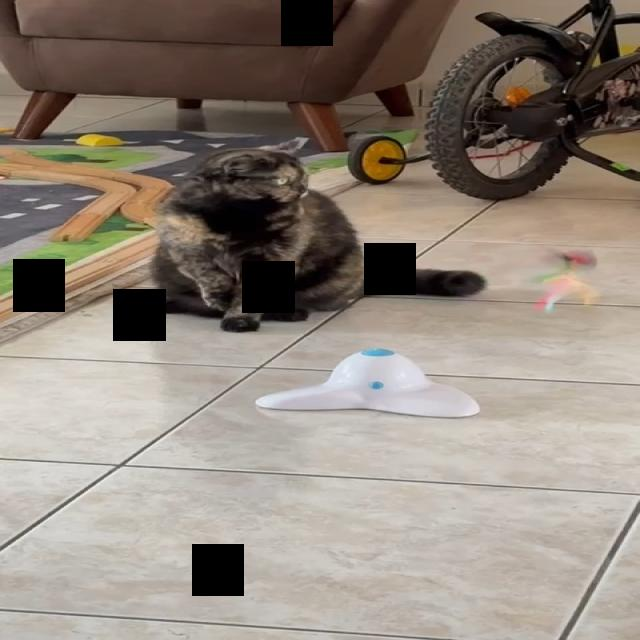authorized: (146, 137, 486, 332)
